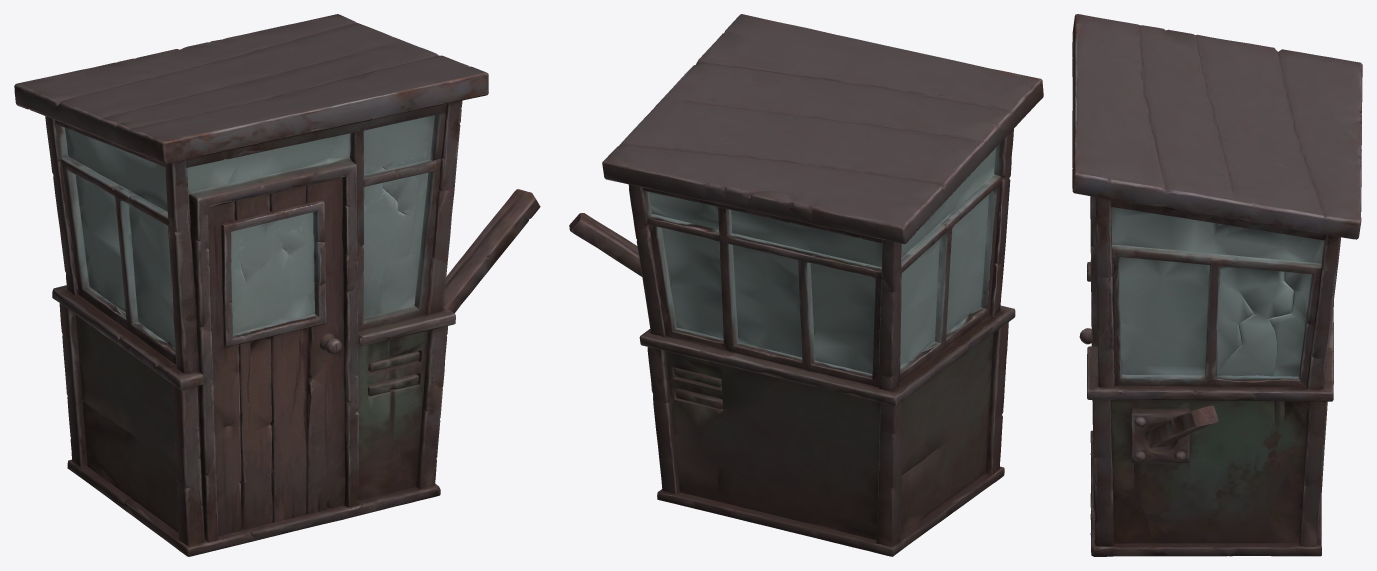
Rendered from prison_guard_booth_b.glb.
The picture shows the model from 3 angles, left to right: view 1: azimuth 30°, elevation 25°; view 2: azimuth 150°, elevation 25°; view 3: azimuth 270°, elevation 25°; orthographic projection. The views are drawn at different scales.
Parts seen in each view (by area): view 1: body, door, barrier; view 2: body, barrier; view 3: body, barrier, door.
Boxes of the visible parts, bbox=[...] form: body: bbox=[14, 14, 488, 556]; door: bbox=[196, 170, 342, 548]; barrier: bbox=[445, 189, 540, 289]; body: bbox=[602, 14, 1043, 556]; barrier: bbox=[569, 213, 642, 276]; body: bbox=[1072, 14, 1362, 556]; barrier: bbox=[1172, 405, 1218, 442]; door: bbox=[1079, 271, 1093, 502].
Bounding box in the file's own units: 3.23 × 3 × 1.92.
8 materials, 3 textured.
